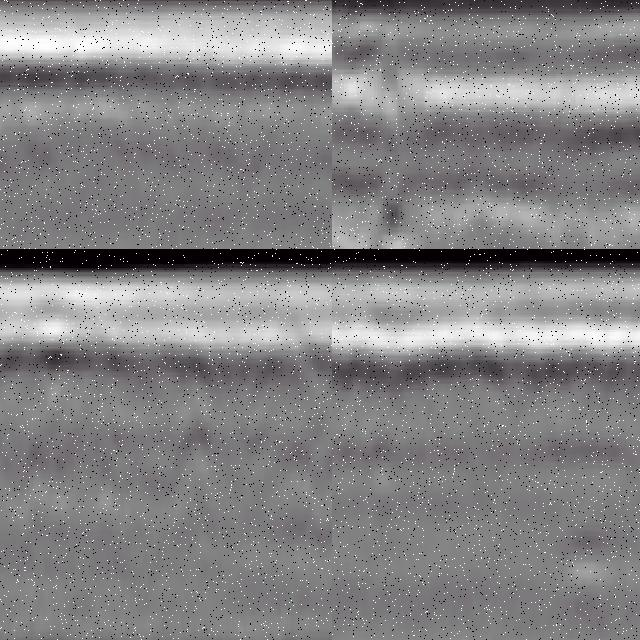crack: (359, 16, 412, 250)
